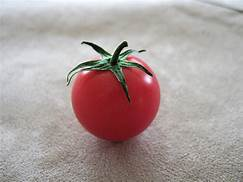tomato: (63, 33, 164, 142)
